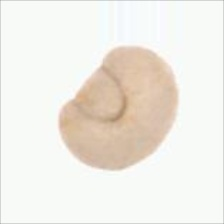L5: (70, 63, 129, 124), (137, 112, 179, 164)
L6: (55, 43, 182, 174)
